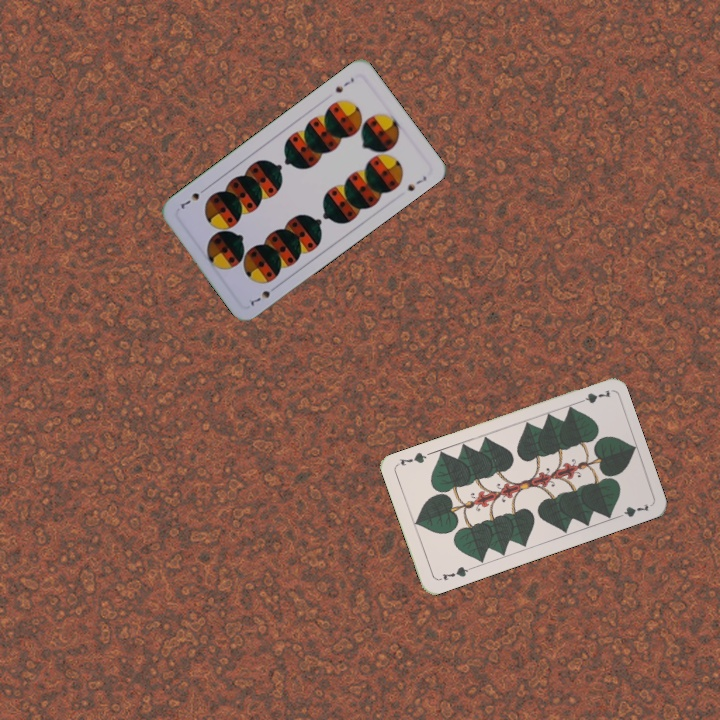G7: (434, 562, 474, 584), (572, 386, 613, 406)
S7: (246, 281, 281, 309), (331, 74, 357, 95)
